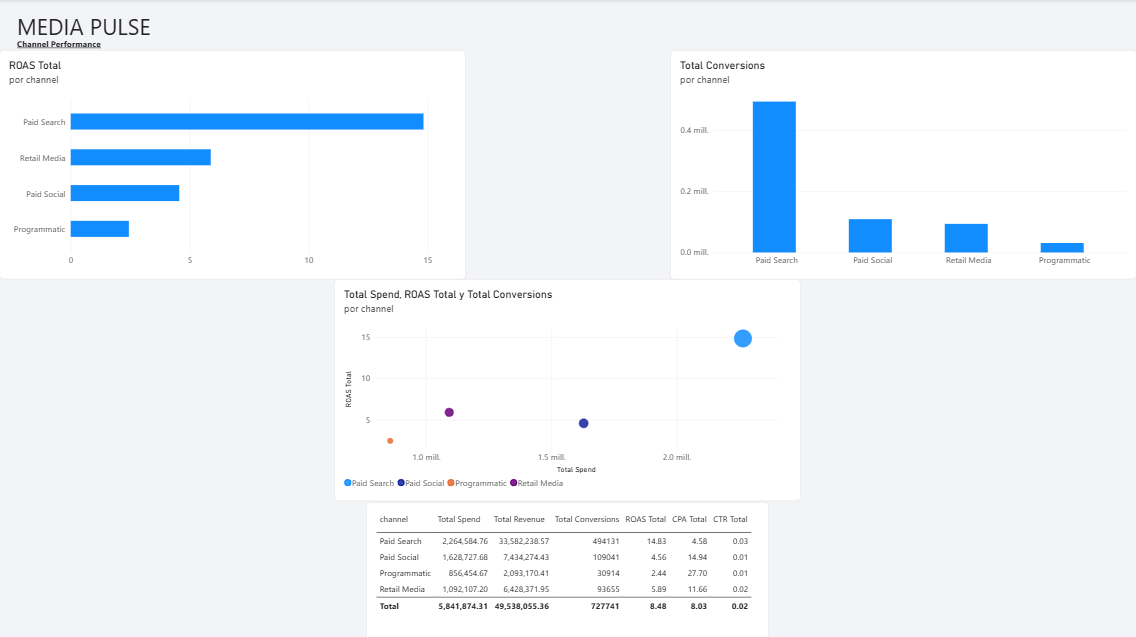

This screenshot's page, from the dashboard's own definition file:
{"tool":"powerbi","page":{"name":"channel performance","canvas":[1920,1080],"ordinal":1},"visuals":[{"type":"clusteredColumnChart","fields":{"Category":["campaign_performance.channel"],"Y":["campaign_performance.Total Conversions"]},"box":[1131.7,86.7,788.3,386.7],"z":0},{"type":"tableEx","fields":{"Values":["campaign_performance.channel","campaign_performance.Total Spend","campaign_performance.Total Revenue","campaign_performance.Total Conversions","campaign_performance.ROAS Total","campaign_performance.CPA Total","campaign_performance.CTR Total"]},"box":[620,848.3,680,231.7],"z":1000},{"type":"textbox","box":[30,20,255,61.7],"z":2000},{"type":"textbox","box":[30,65,163.3,33.3],"z":3000},{"type":"clusteredBarChart","fields":{"Category":["campaign_performance.channel"],"Y":["campaign_performance.ROAS Total"]},"box":[0,86.7,788.3,386.7],"z":4000},{"type":"scatterChart","fields":{"Series":["campaign_performance.channel"],"Size":["campaign_performance.Total Conversions"],"X":["campaign_performance.Total Spend"],"Y":["campaign_performance.ROAS Total"]},"box":[565,473.3,788.3,375],"z":5000}]}

Visuals, with their boxes in screenshot pixels (x1, y1, x2, y2), scaled from the page's 1920x1080 canvas onto the 1136x637 screenshot:
clusteredColumnChart - campaign_performance.channel x campaign_performance.Total Conversions: box=[670, 51, 1135, 279]
tableEx - campaign_performance.channel x campaign_performance.Total Spend: box=[367, 500, 769, 636]
textbox: box=[18, 12, 169, 48]
textbox: box=[18, 38, 114, 58]
clusteredBarChart - campaign_performance.channel x campaign_performance.ROAS Total: box=[0, 51, 466, 279]
scatterChart - campaign_performance.channel x campaign_performance.Total Conversions: box=[334, 279, 801, 500]
